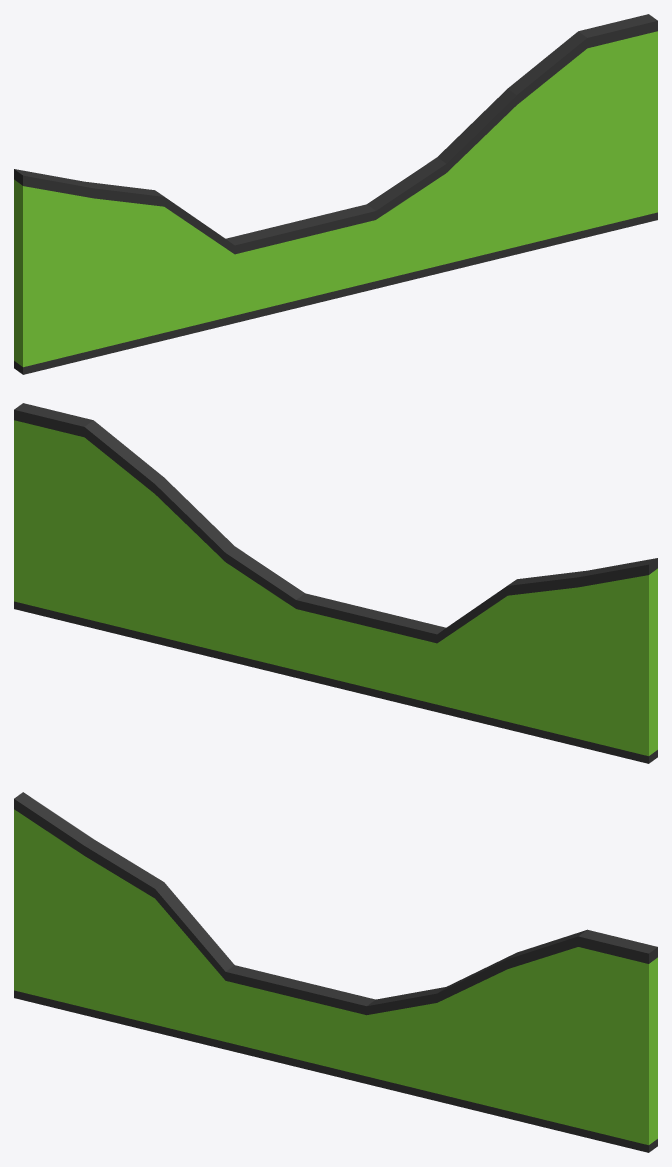
File: hill1.fbx
The picture shows the model from 3 angles, top to bottom: view 1: azimuth 30°, elevation 25°; view 2: azimuth 150°, elevation 25°; view 3: azimuth 330°, elevation 25°; orthographic projection.
Parts seen in each view (by area): view 1: Hill 1; view 2: Hill 1; view 3: Hill 1.
Part boxes in pixels (<box>): Hill 1: <box>14,14,657,374</box>; Hill 1: <box>14,403,657,763</box>; Hill 1: <box>14,792,657,1152</box>.
Size of the model in its own units: 800 by 20 by 240.
